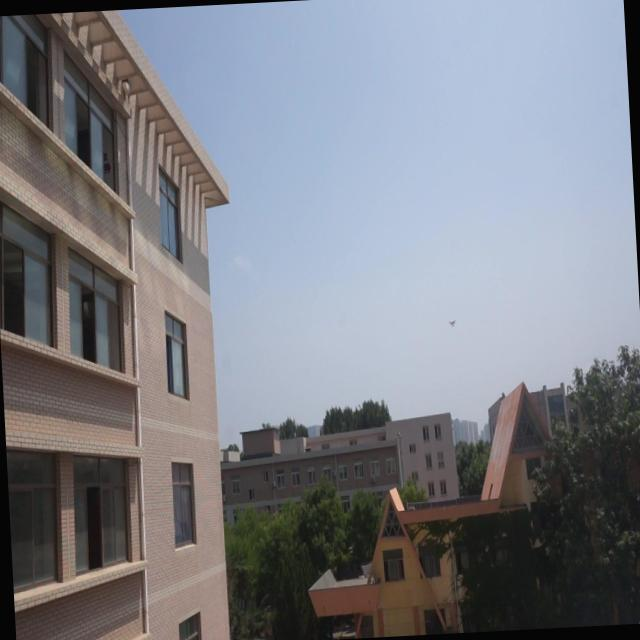drone: (448, 314, 458, 334)
